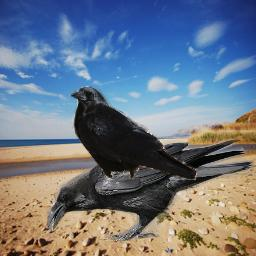Crow: (47, 139, 255, 241), (69, 86, 197, 180)
